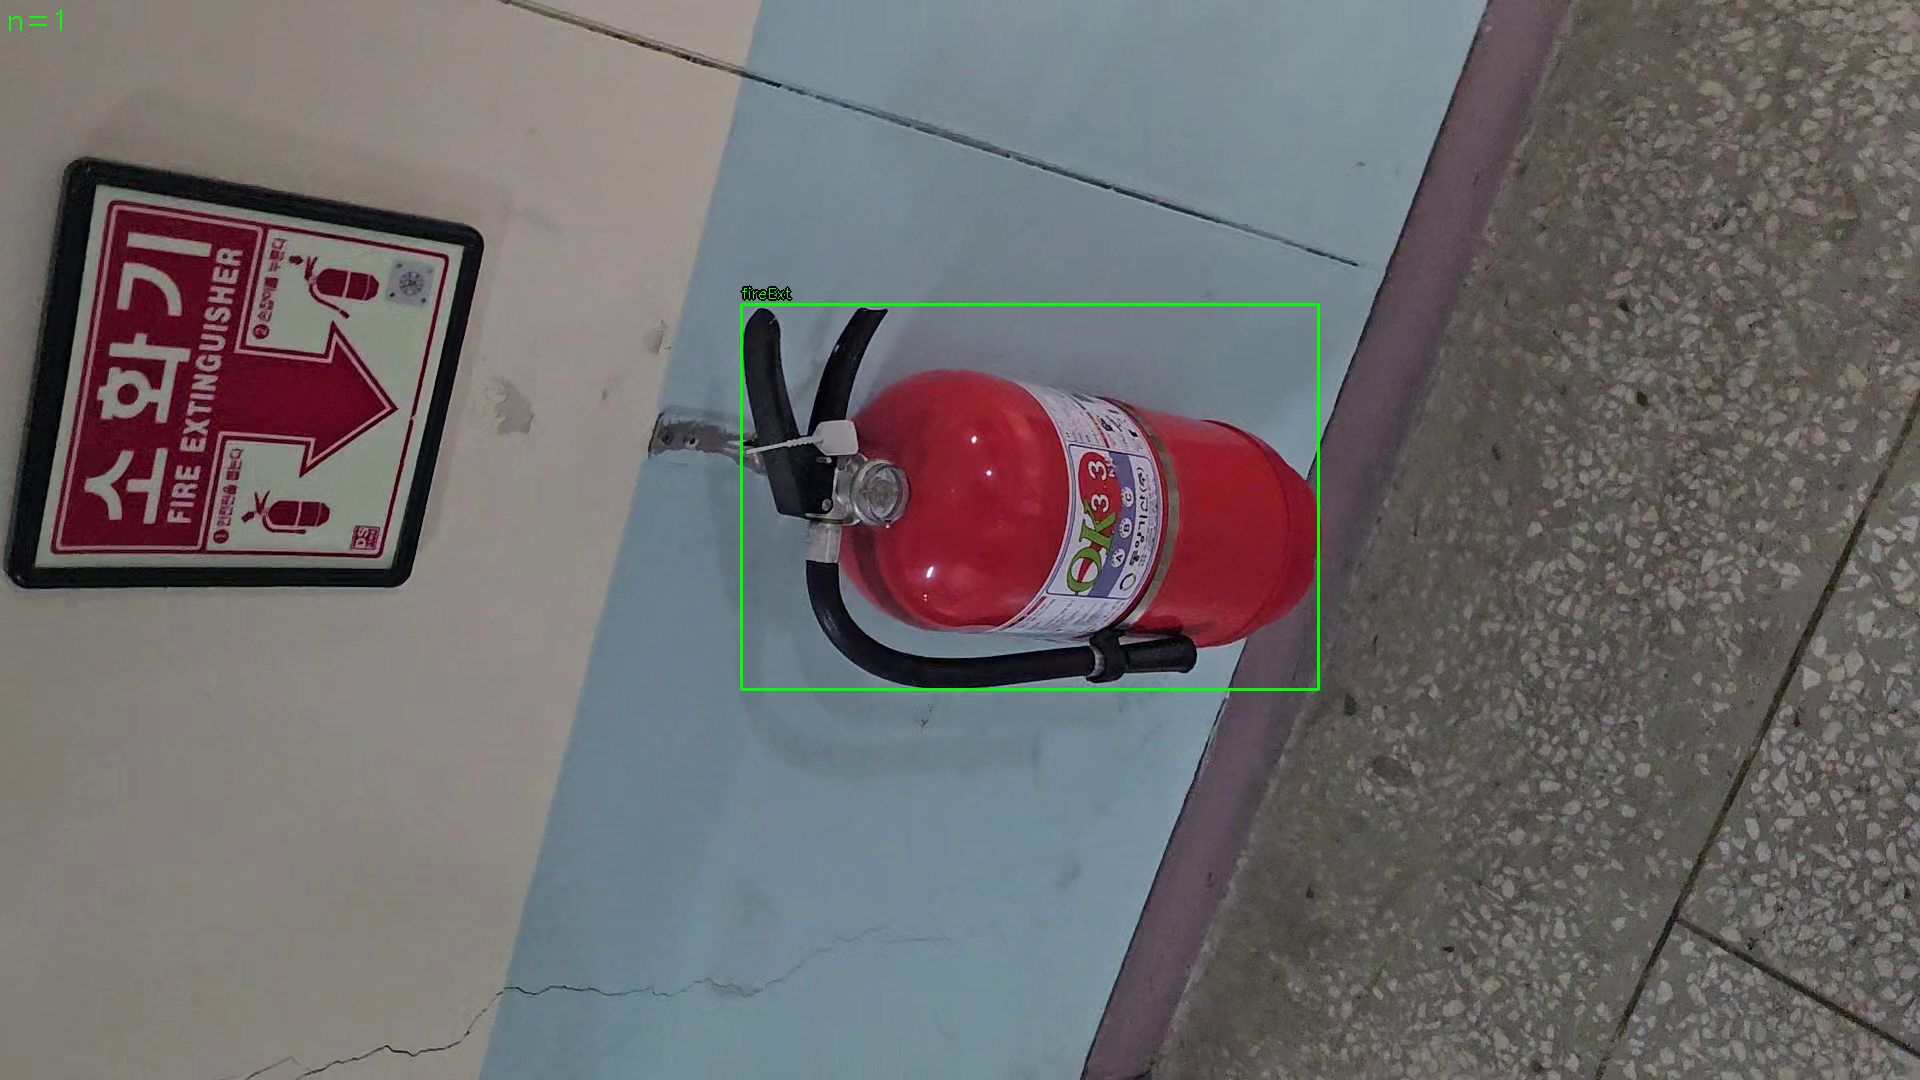lane: (741, 305, 1319, 690)
